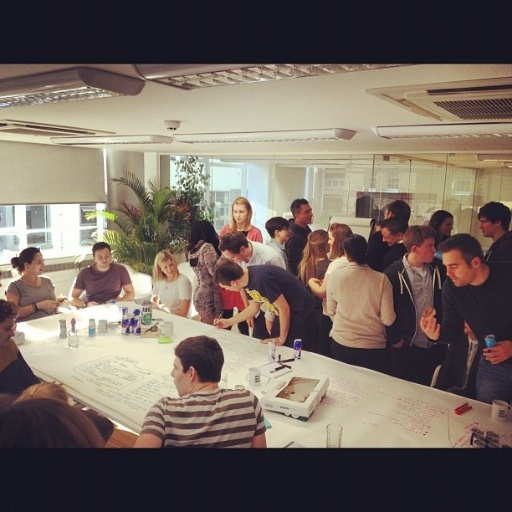hand: (481, 339, 510, 367), (418, 315, 440, 340), (260, 337, 281, 348), (40, 297, 57, 310), (213, 316, 229, 328), (148, 293, 158, 307), (54, 295, 68, 304), (244, 316, 254, 328), (264, 320, 271, 334), (311, 276, 322, 284), (86, 299, 96, 307), (104, 297, 115, 302)
